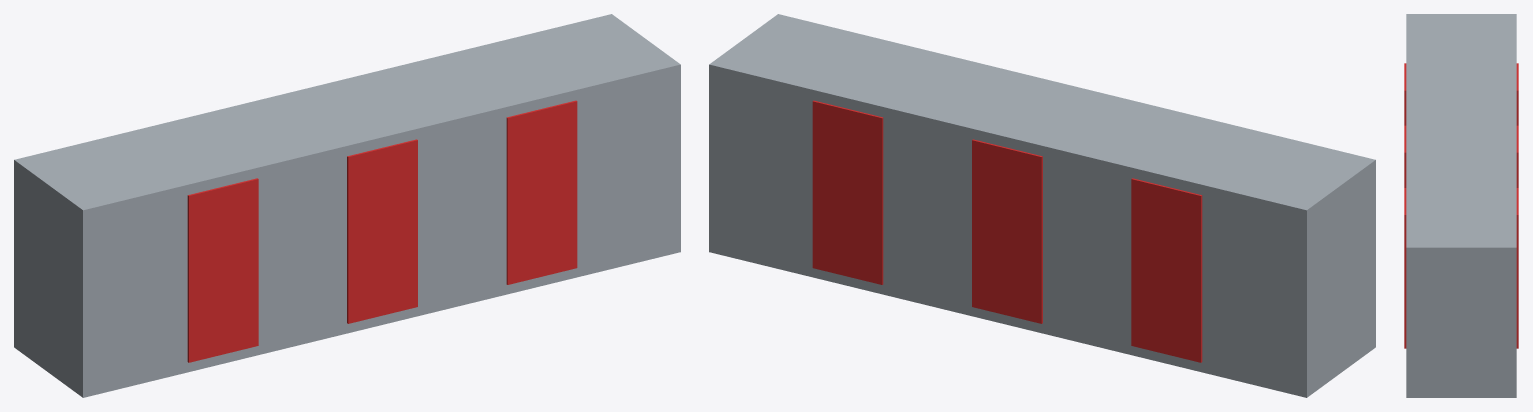
Rendered from road_barrier.glb.
3 views of the same model, side by side, from view 1: azimuth 30°, elevation 25°; view 2: azimuth 150°, elevation 25°; view 3: azimuth 270°, elevation 25° (orthographic). The views are drawn at different scales.
Visible parts, largest first — view 1: RoadBarrier; view 2: RoadBarrier; view 3: RoadBarrier.
Boxes of the visible parts, bbox=[...] form: RoadBarrier: bbox=[14, 14, 680, 397]; RoadBarrier: bbox=[709, 14, 1375, 397]; RoadBarrier: bbox=[1404, 14, 1518, 397].
Bounding box in the file's own units: 3 × 0.9 × 0.62.
